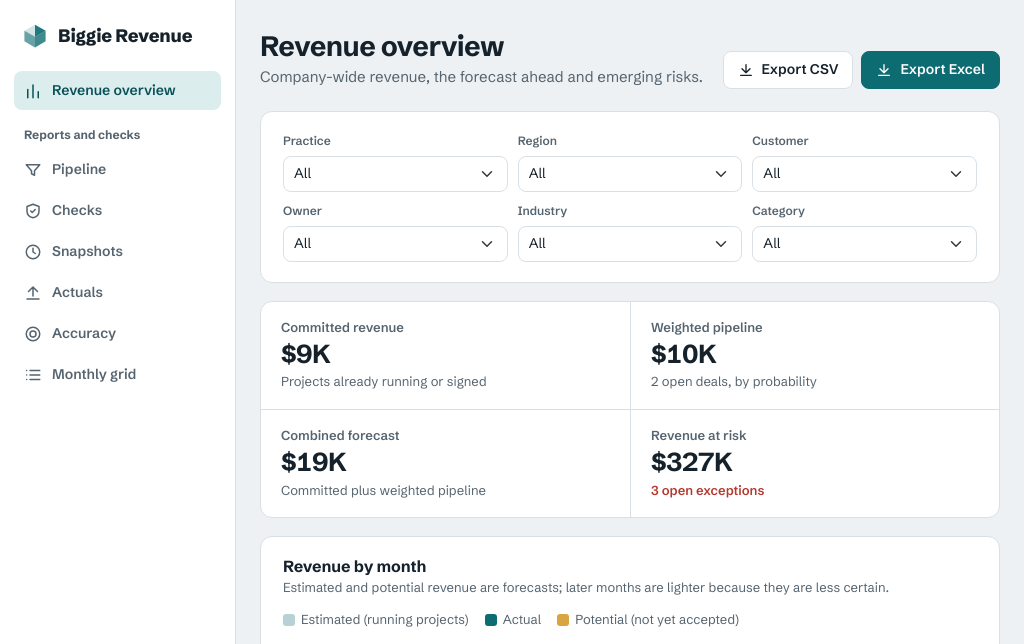
Test: Revenue overview (Sales Leadership) › passes a filter to the server and stops showing company-wide actuals
Check: the heading "Revenue by month" is shown, box [283, 556, 426, 576]
Select "UK" in the dropdown labelled "Region" at (630, 174), box [518, 156, 742, 192]
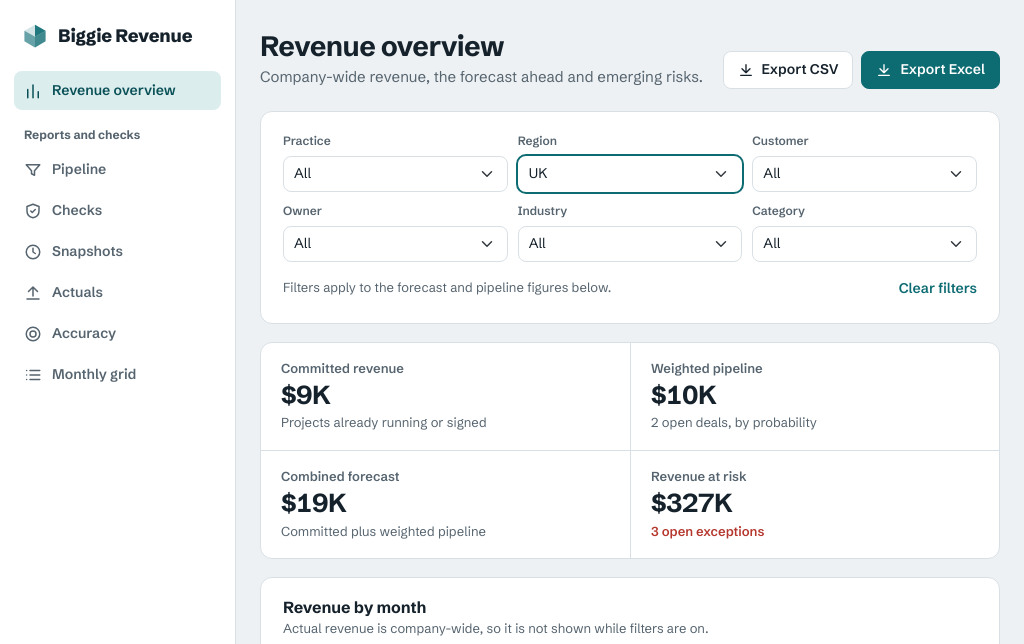
Check: the text "Actual revenue is company-wide, so it is not shown while filters are on" is shown, box [283, 620, 709, 636]
